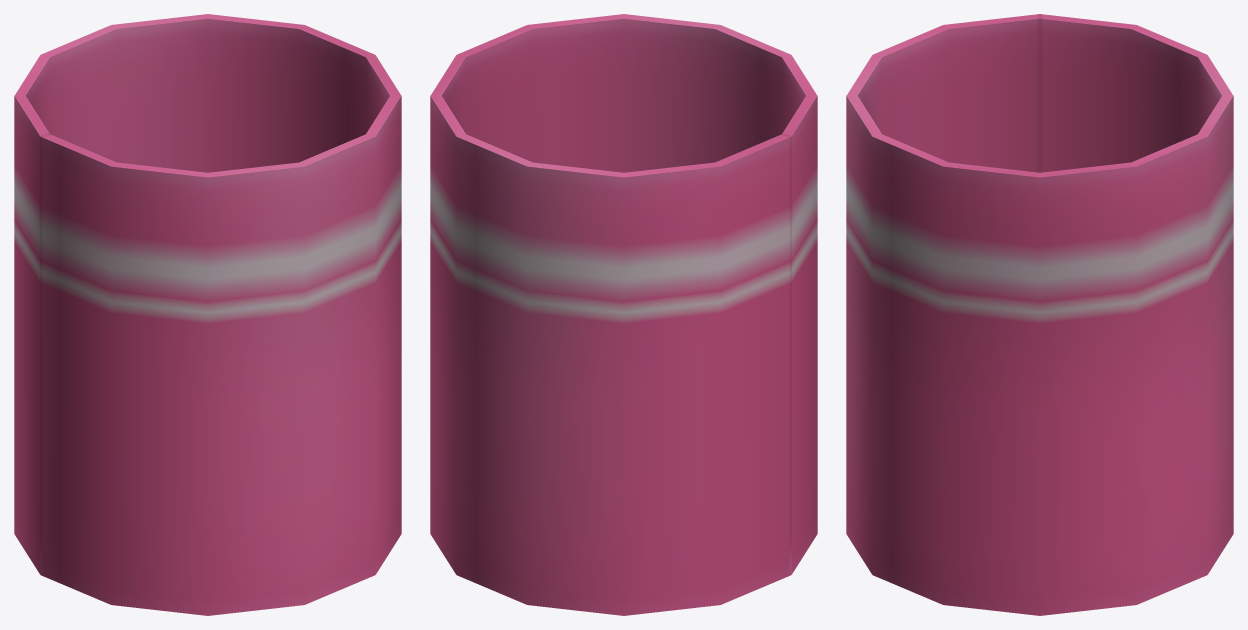
The model's file is jsf_Vessel_01.fbx.
3 renders of one model, left to right at view 1: azimuth 30°, elevation 25°; view 2: azimuth 150°, elevation 25°; view 3: azimuth 270°, elevation 25°, orthographic.
Parts seen in each view (by area): view 1: jsf_Vessel_01; view 2: jsf_Vessel_01; view 3: jsf_Vessel_01.
Part boxes in pixels (<box>): jsf_Vessel_01: <box>14,14,401,615</box>; jsf_Vessel_01: <box>430,14,817,615</box>; jsf_Vessel_01: <box>846,14,1233,615</box>.
Size of the model in its own units: 10 by 12.5 by 10.
